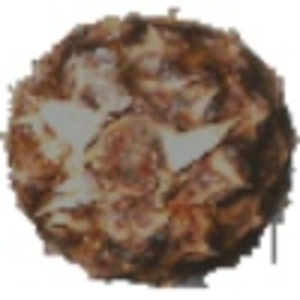abacaxi: (6, 7, 292, 276)
